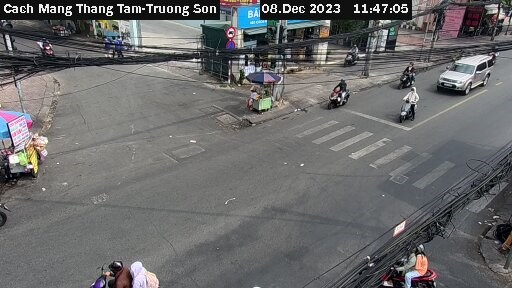car: (437, 50, 490, 97)
motorbike: (369, 237, 442, 288), (78, 252, 161, 288), (320, 77, 355, 110), (395, 87, 423, 128), (395, 58, 422, 90), (340, 44, 362, 68)
